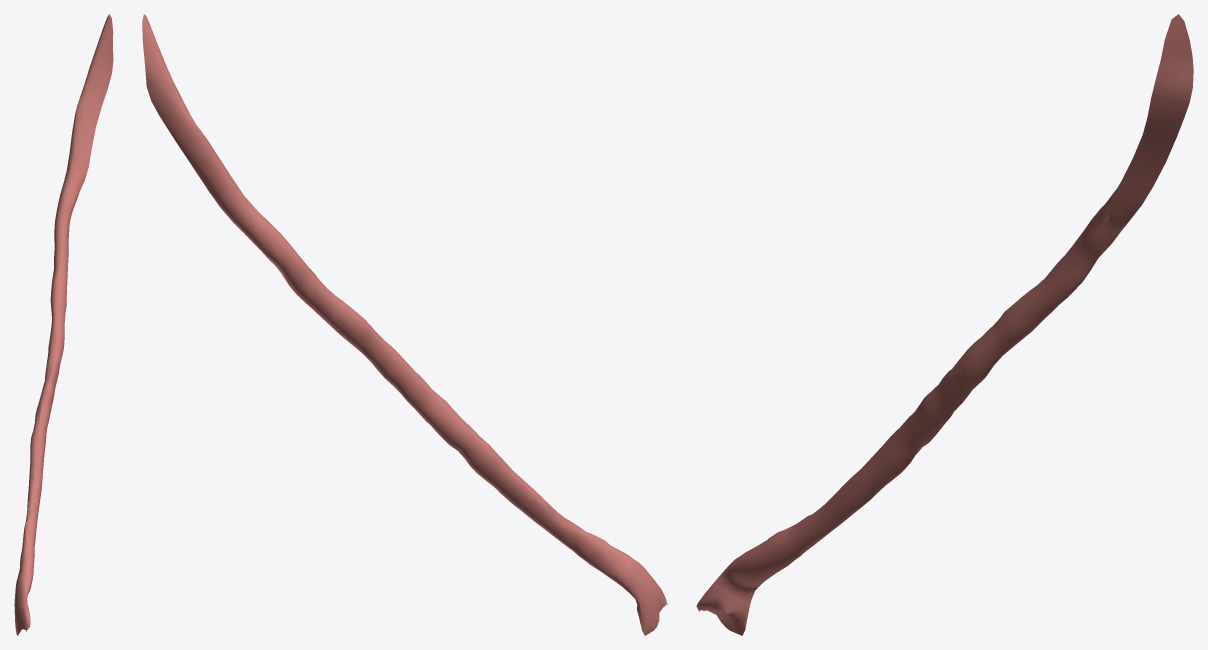
Rendered from fma40810_mm1961.glb.
3 views of the same model, side by side, from view 1: azimuth 30°, elevation 25°; view 2: azimuth 150°, elevation 25°; view 3: azimuth 270°, elevation 25° (orthographic). The views are drawn at different scales.
Visible parts, largest first — view 1: FMA40810_MM1961; view 2: FMA40810_MM1961; view 3: FMA40810_MM1961.
Part boxes in pixels (x1=…): FMA40810_MM1961: x1=14, y1=14, x2=113, y2=635; FMA40810_MM1961: x1=142, y1=14, x2=667, y2=635; FMA40810_MM1961: x1=696, y1=14, x2=1193, y2=635.
Size of the model in its own units: 0.0564 by 0.1132 by 0.0634.
